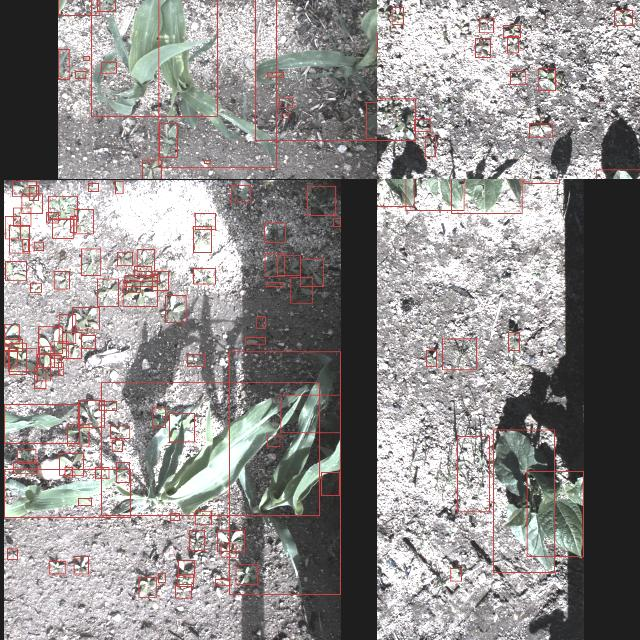crop: (100, 382, 320, 514), (230, 351, 340, 594), (158, 0, 276, 167), (255, 0, 377, 140), (91, 0, 217, 115), (494, 428, 554, 572), (3, 468, 129, 518), (526, 470, 584, 556), (3, 403, 78, 442), (450, 179, 521, 213), (405, 179, 463, 210), (366, 102, 377, 138), (58, 49, 68, 79)
weed: (457, 435, 489, 511), (280, 394, 340, 432), (377, 98, 415, 140), (442, 338, 476, 369), (122, 280, 156, 306), (306, 186, 336, 214), (168, 412, 194, 442), (77, 399, 103, 426), (8, 347, 36, 371), (300, 258, 324, 286), (48, 195, 76, 219), (38, 326, 62, 352), (96, 278, 118, 306), (159, 123, 177, 157), (72, 307, 98, 329), (165, 294, 185, 322), (9, 224, 29, 252), (8, 342, 26, 373), (218, 530, 245, 550), (59, 452, 83, 474), (290, 278, 312, 302), (80, 248, 100, 274), (73, 208, 93, 234), (66, 423, 88, 445), (264, 252, 284, 276), (193, 226, 211, 252), (58, 314, 74, 342), (235, 564, 257, 584), (4, 260, 26, 280), (278, 255, 300, 275), (20, 193, 42, 213), (141, 159, 161, 179), (264, 222, 284, 242), (52, 218, 72, 238), (321, 472, 339, 494), (136, 249, 154, 271), (124, 274, 156, 286), (11, 180, 35, 196), (36, 354, 50, 381), (192, 268, 215, 284), (66, 332, 80, 358), (138, 577, 156, 597), (230, 184, 250, 202), (538, 68, 554, 90), (194, 213, 216, 229), (4, 216, 20, 238), (38, 347, 54, 368), (12, 207, 30, 225), (188, 530, 204, 550), (152, 270, 168, 290), (528, 124, 552, 136), (474, 38, 490, 56), (72, 555, 88, 573), (13, 461, 37, 473), (109, 424, 129, 438), (151, 407, 165, 427), (4, 324, 18, 344), (51, 341, 68, 357), (115, 461, 128, 481), (178, 560, 194, 576), (53, 272, 69, 288), (614, 10, 632, 24), (17, 449, 35, 463), (509, 70, 525, 84), (48, 560, 64, 574), (175, 583, 191, 597), (195, 510, 211, 524), (116, 251, 132, 265), (34, 366, 44, 388), (502, 25, 520, 37), (391, 6, 403, 24), (3, 338, 21, 350), (187, 354, 205, 366), (424, 136, 434, 156), (96, 0, 114, 11), (479, 18, 493, 32), (80, 334, 94, 348), (506, 36, 518, 52), (220, 544, 236, 556), (177, 574, 193, 586), (508, 331, 518, 349), (98, 400, 115, 410), (426, 349, 436, 366), (414, 118, 428, 130), (4, 350, 16, 364), (126, 280, 140, 292), (100, 62, 116, 72), (134, 266, 150, 276), (245, 336, 265, 344), (28, 184, 38, 200), (94, 467, 108, 478), (266, 436, 280, 446), (50, 354, 60, 368), (280, 97, 292, 107), (111, 439, 121, 451), (256, 316, 266, 328), (45, 212, 57, 222), (450, 568, 460, 580), (216, 578, 230, 586), (114, 180, 122, 193), (6, 548, 16, 558), (30, 282, 40, 292), (88, 182, 98, 192), (33, 240, 43, 250), (70, 216, 76, 232), (75, 70, 85, 78), (64, 466, 72, 476), (78, 498, 90, 504), (22, 239, 28, 251), (158, 572, 165, 582), (267, 72, 283, 76), (170, 512, 178, 520), (266, 282, 282, 286), (334, 218, 341, 226), (58, 362, 62, 374), (152, 273, 158, 281), (282, 112, 288, 118), (82, 55, 88, 59), (204, 160, 210, 162)
